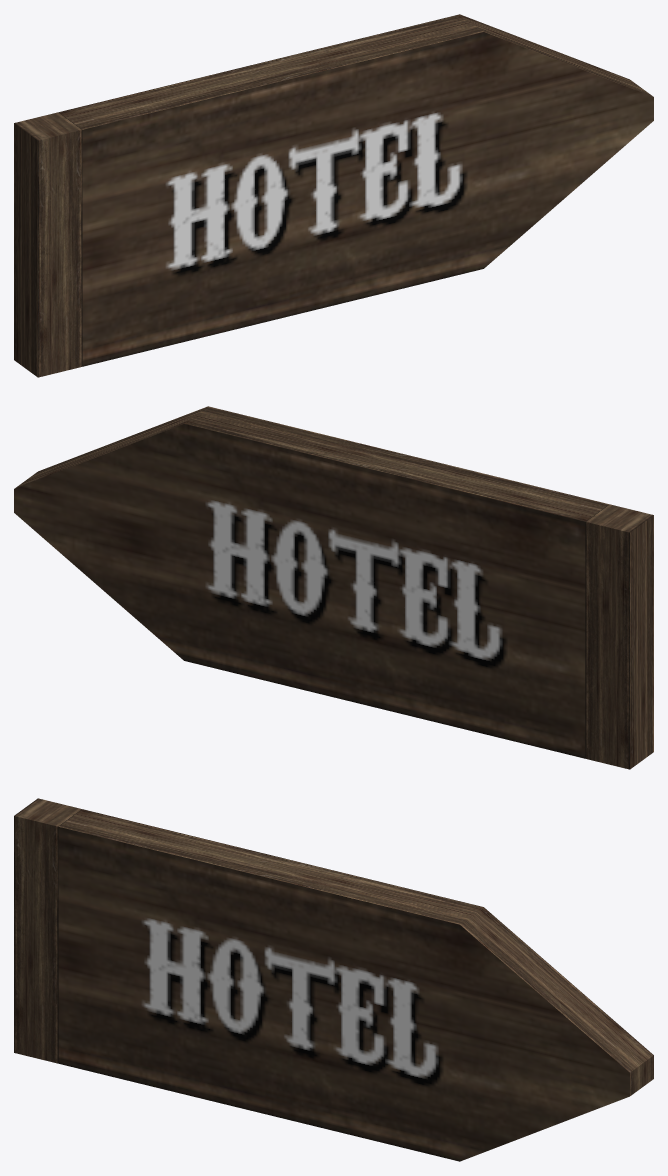
File: wooden-sign-06.fbx
3 views of the same model, one above another, from view 1: azimuth 30°, elevation 25°; view 2: azimuth 150°, elevation 25°; view 3: azimuth 330°, elevation 25° (orthographic).
Parts seen in each view (by area): view 1: Cube.249; view 2: Cube.249; view 3: Cube.249.
Part boxes in pixels (<box>): Cube.249: <box>14,14,653,377</box>; Cube.249: <box>14,406,653,769</box>; Cube.249: <box>14,798,653,1161</box>.
Bounding box in the file's own units: 0.8128 × 0.2988 × 0.0549.
